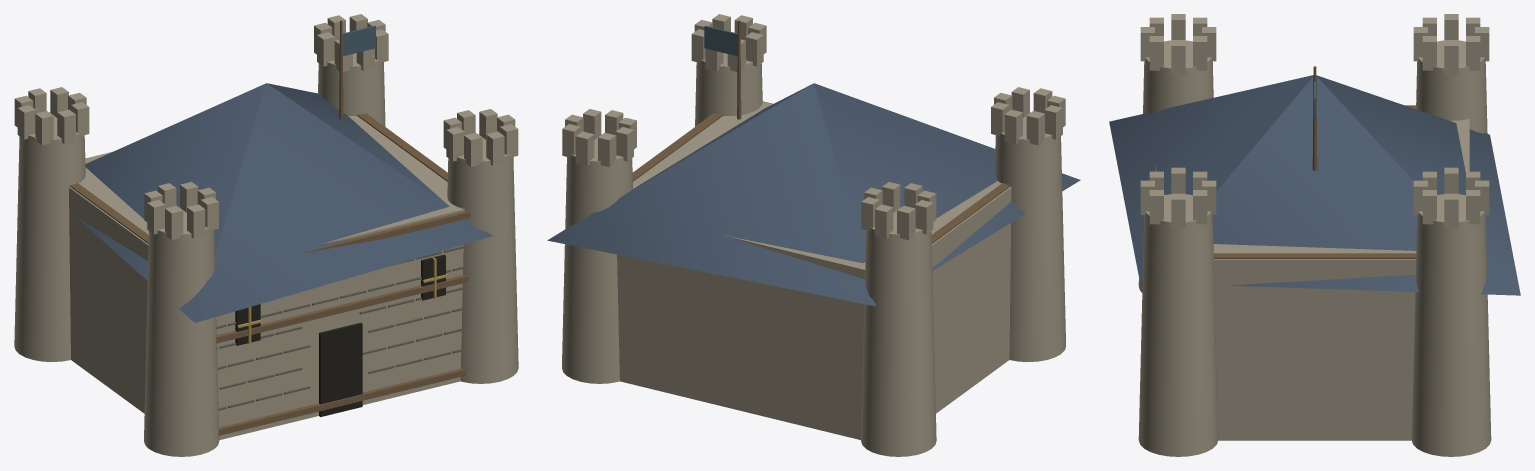
File: b-specialist-french.glb
3 views of the same model, side by side, from view 1: azimuth 30°, elevation 25°; view 2: azimuth 150°, elevation 25°; view 3: azimuth 270°, elevation 25° (orthographic). The views are drawn at different scales.
Visible parts, largest first — view 1: Structure; view 2: Structure; view 3: Structure.
Boxes of the visible parts, x1=… form: Structure: x1=14, y1=14, x2=518, y2=456; Structure: x1=547, y1=14, x2=1080, y2=456; Structure: x1=1109, y1=14, x2=1520, y2=456.
Bounding box in the file's own units: 7.8 × 6.52 × 7.24.
